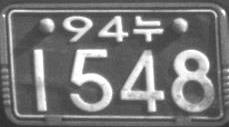1: (21, 48, 59, 111)
4: (119, 48, 165, 112), (97, 15, 129, 42)
5: (68, 47, 112, 112)
8: (171, 48, 215, 113)
9: (61, 15, 93, 42)
누: (133, 15, 163, 41)
